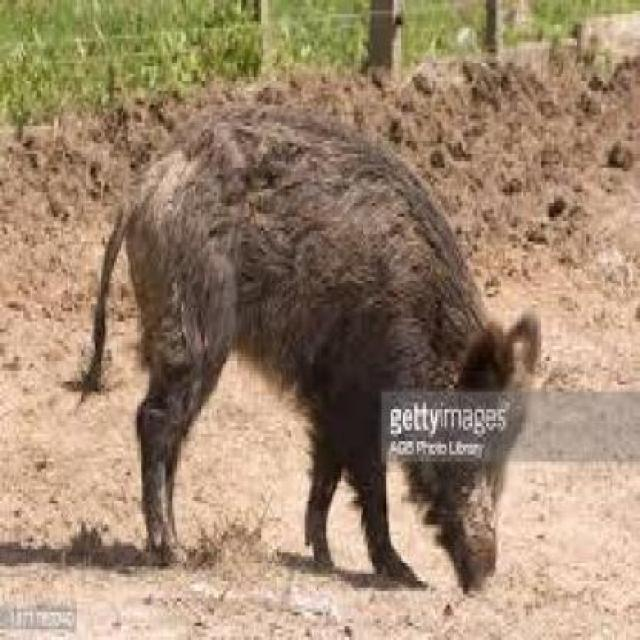wildboar: (71, 86, 544, 602)
